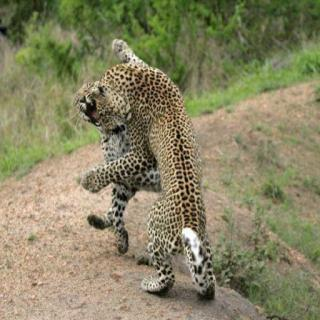Leopard: (101, 41, 224, 301), (64, 46, 176, 248)
